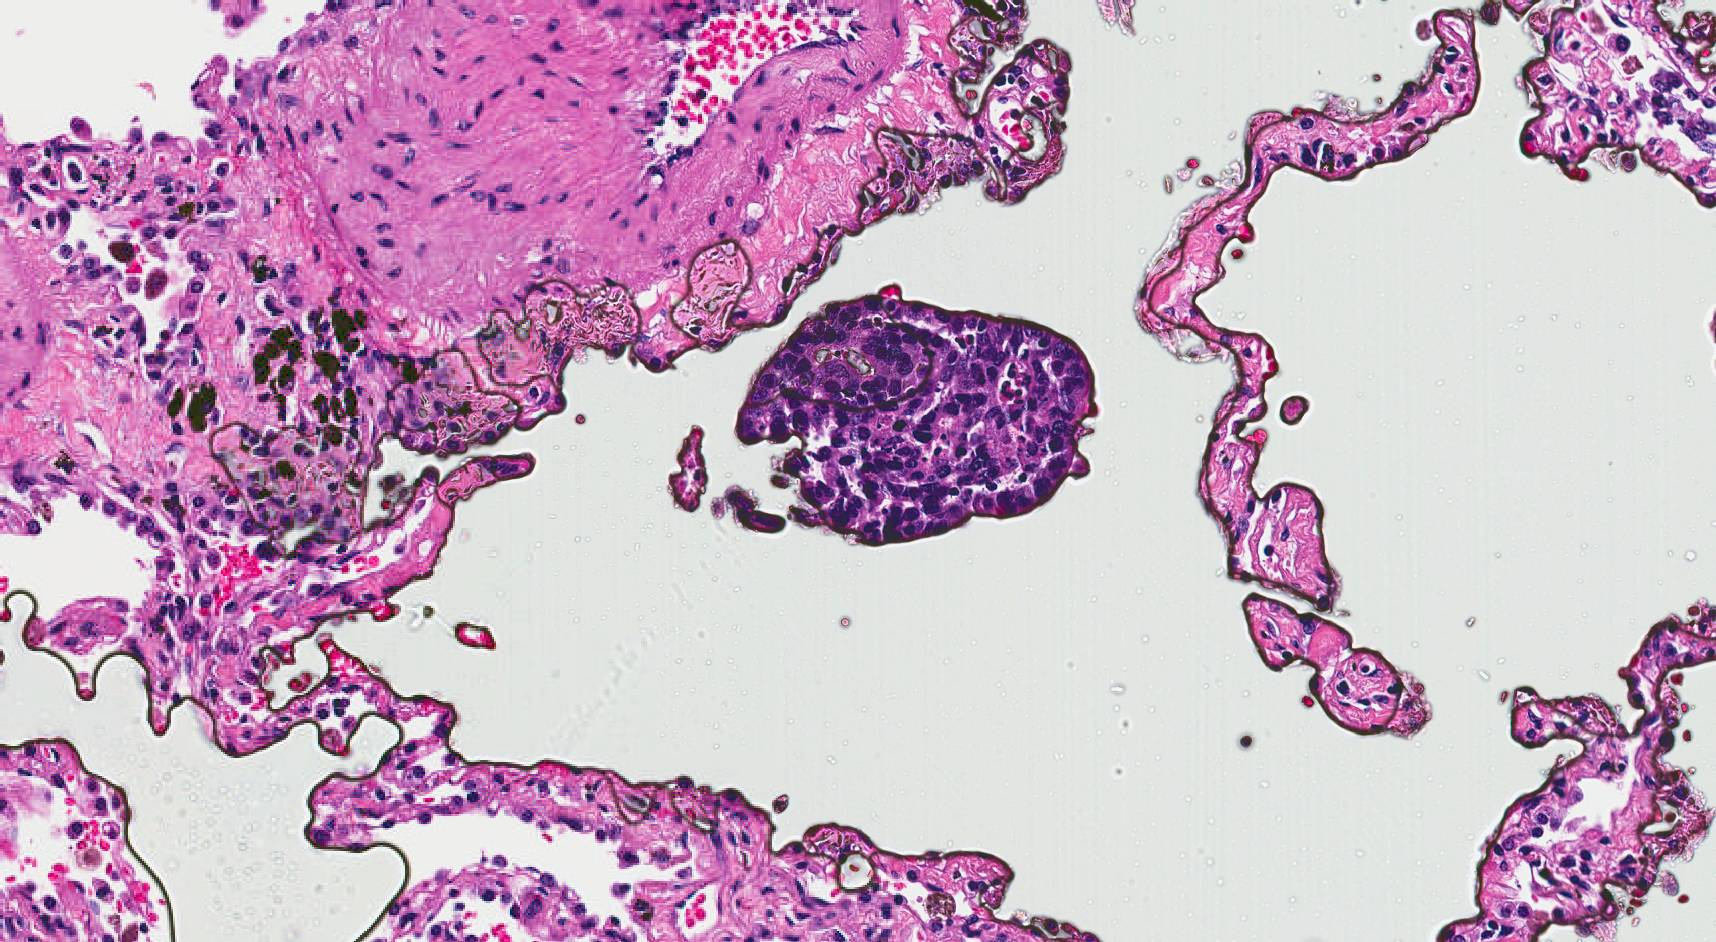stas: (734, 296, 1097, 549)
